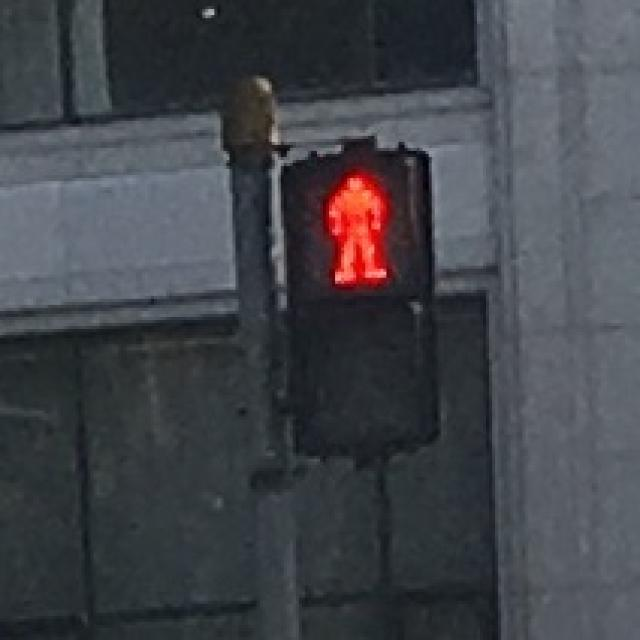red_light: (290, 160, 420, 287)
